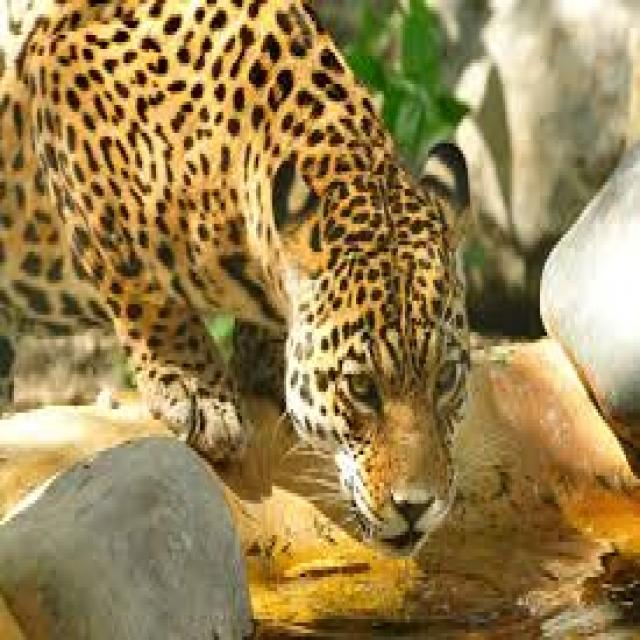Jaguar: (0, 0, 470, 560)
